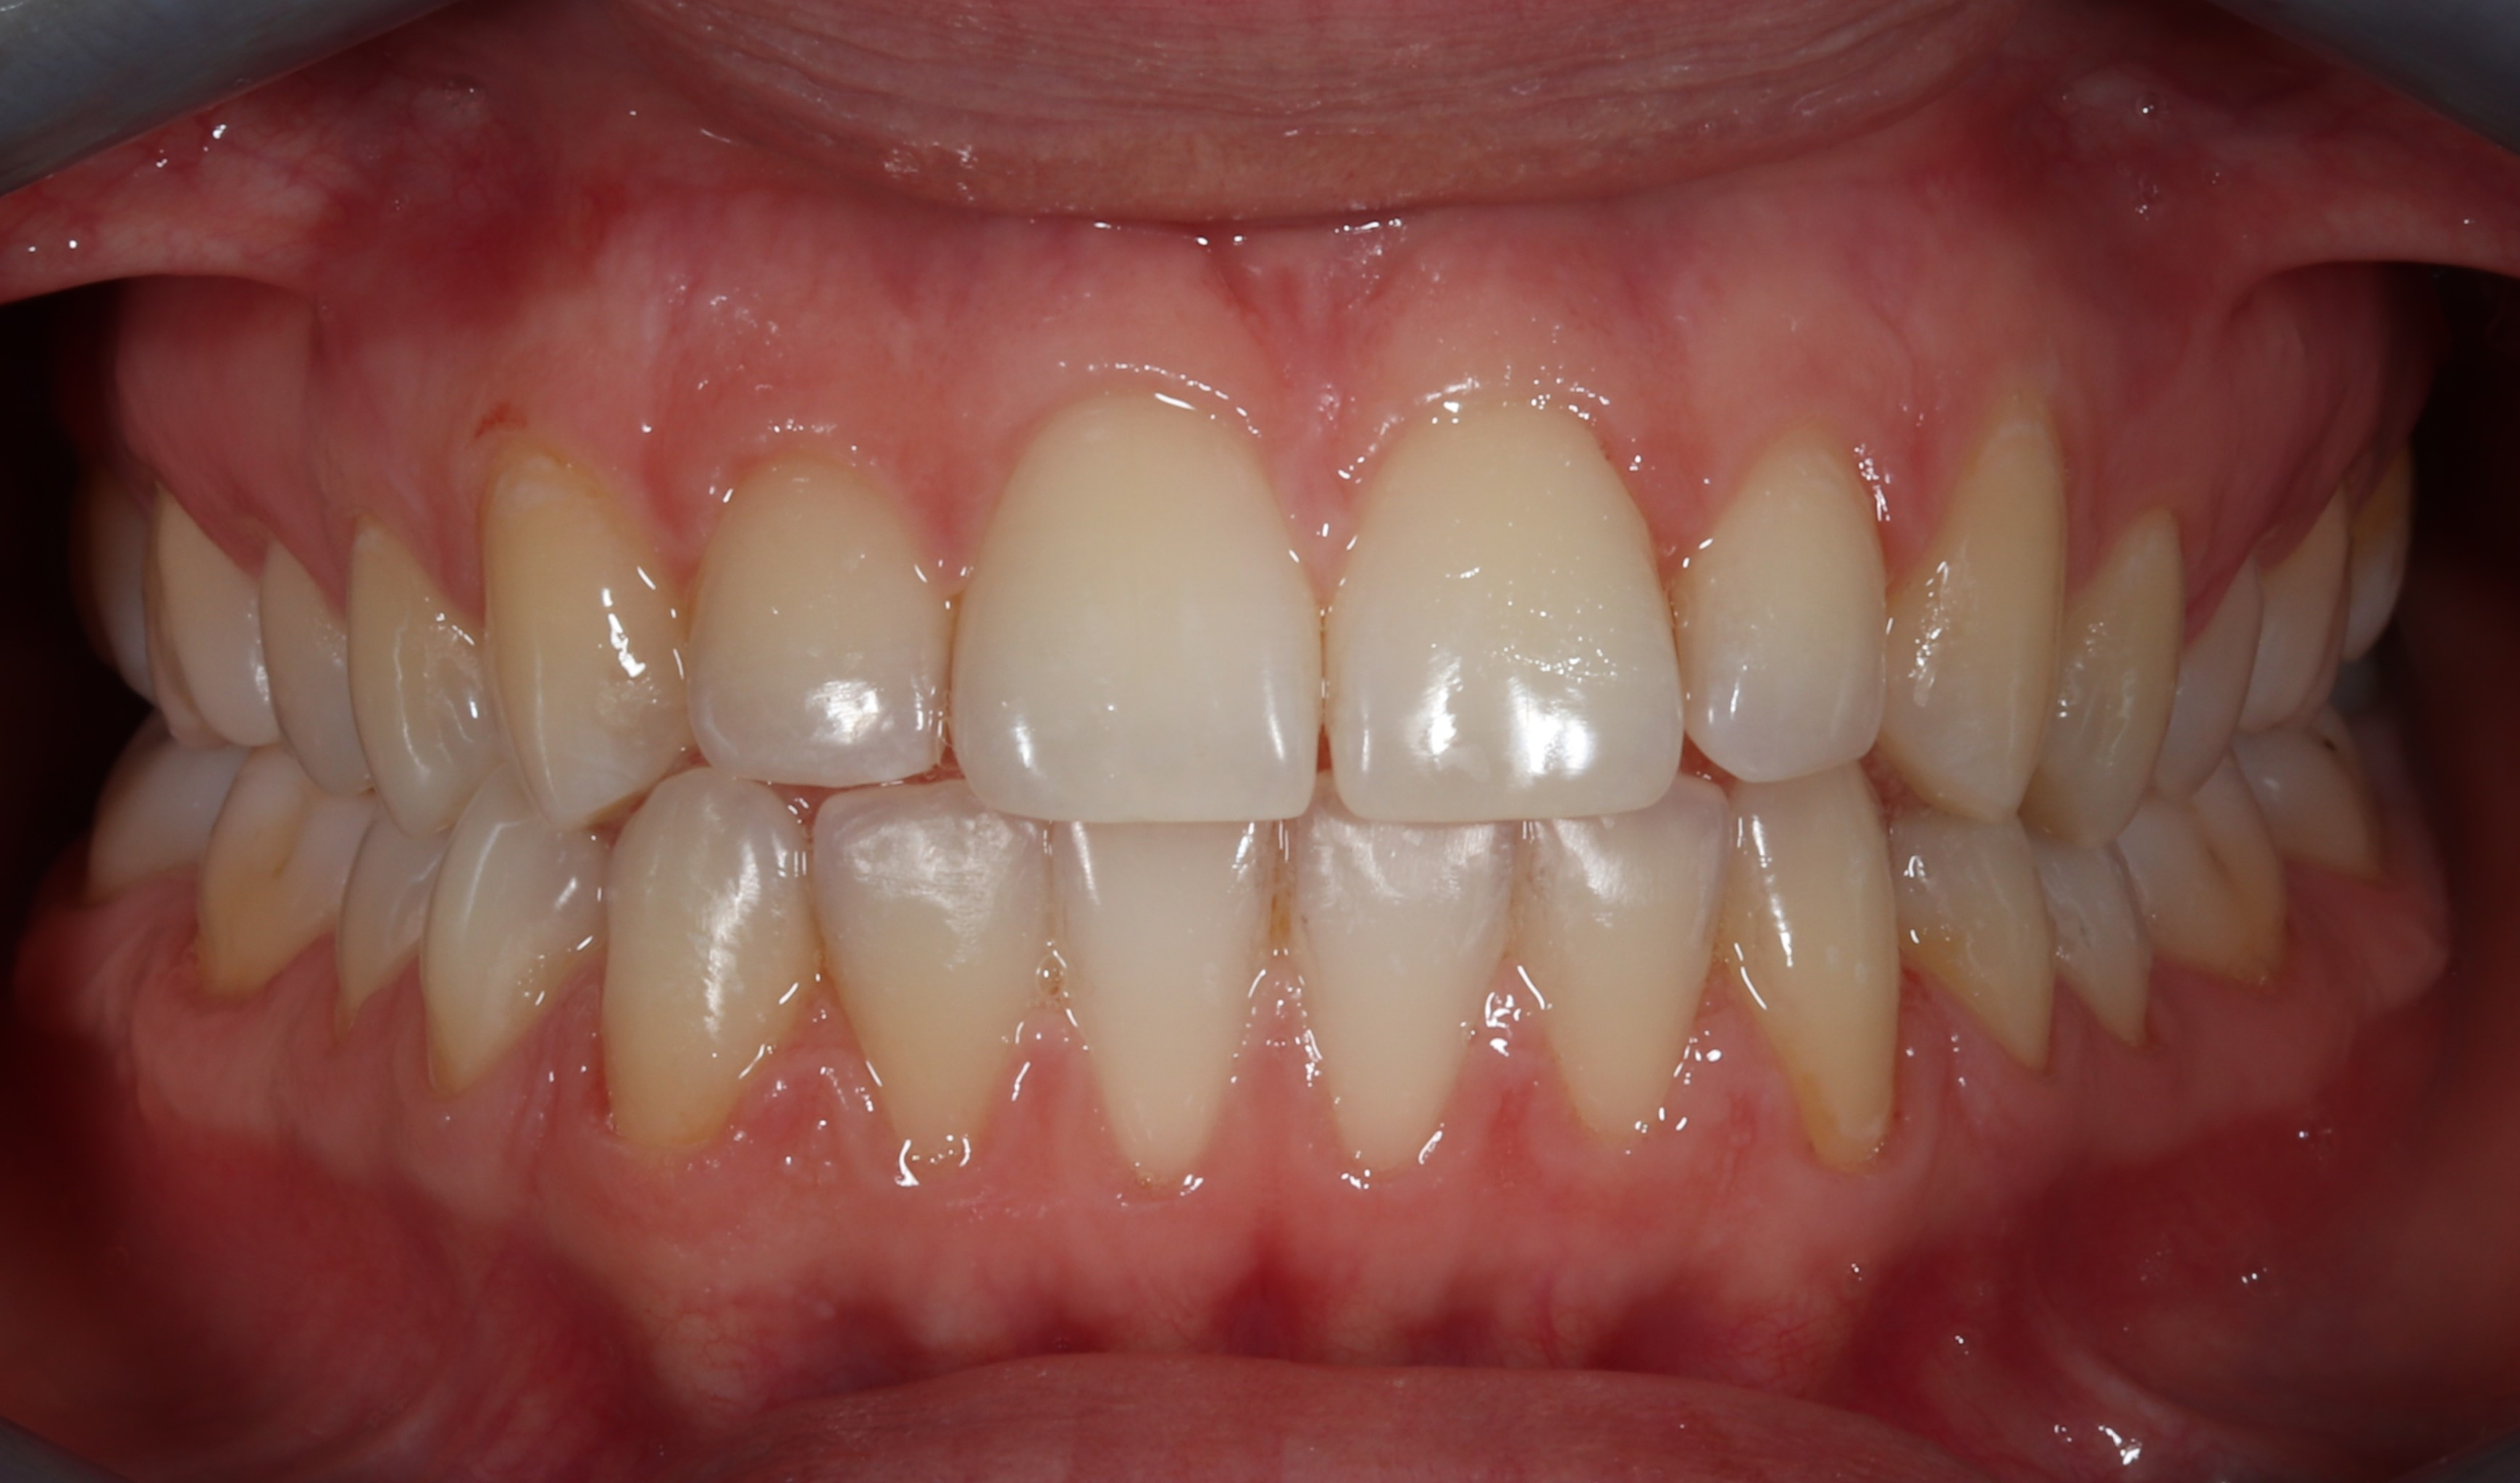LL1BC_healthy: (1900, 807, 2054, 1072)
LL1M_healthy: (2137, 823, 2283, 985)
LL2BC_healthy: (2047, 821, 2151, 1043)
LL2M_healthy: (2262, 738, 2393, 886)
LLCI_healthy: (1296, 826, 1506, 1160)
LLC_healthy: (1718, 780, 1902, 1169)
LLLI_healthy: (1512, 817, 1731, 1139)
LR1BC_healthy: (422, 833, 600, 1080)
LR1M_decay: (198, 787, 344, 990)
LR2BC_healthy: (337, 823, 427, 1012)
LR2M_healthy: (87, 757, 205, 900)
LRCI_healthy: (1054, 826, 1279, 1176)
LRC_healthy: (606, 794, 798, 1156)
LRLI_healthy: (809, 796, 1049, 1144)
UL1BC_healthy: (2052, 521, 2179, 854)
UL1M_healthy: (2257, 505, 2349, 726)
UL2BC_healthy: (2172, 570, 2255, 784)
UL2M_healthy: (2354, 452, 2414, 657)
ULCI_healthy: (1316, 413, 1685, 823)
ULC_healthy: (1886, 425, 2064, 810)
ULLI_healthy: (1686, 452, 1882, 782)
UR1BC_healthy: (346, 526, 494, 833)
UR1M_healthy: (147, 501, 270, 750)
UR2BC_healthy: (256, 547, 358, 789)
URCI_healthy: (955, 403, 1321, 823)
URC_healthy: (487, 459, 683, 817)
URLI_healthy: (685, 452, 947, 782)
